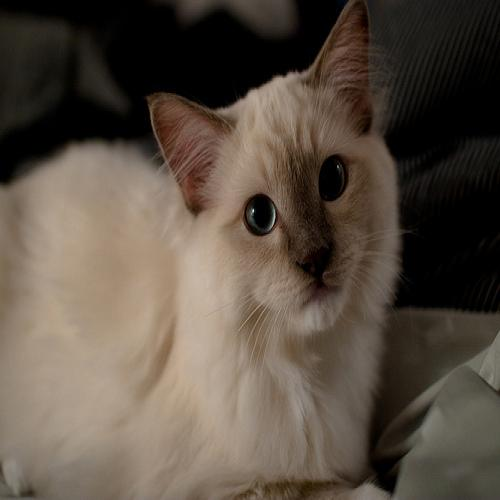ragdoll: (143, 1, 391, 339)
